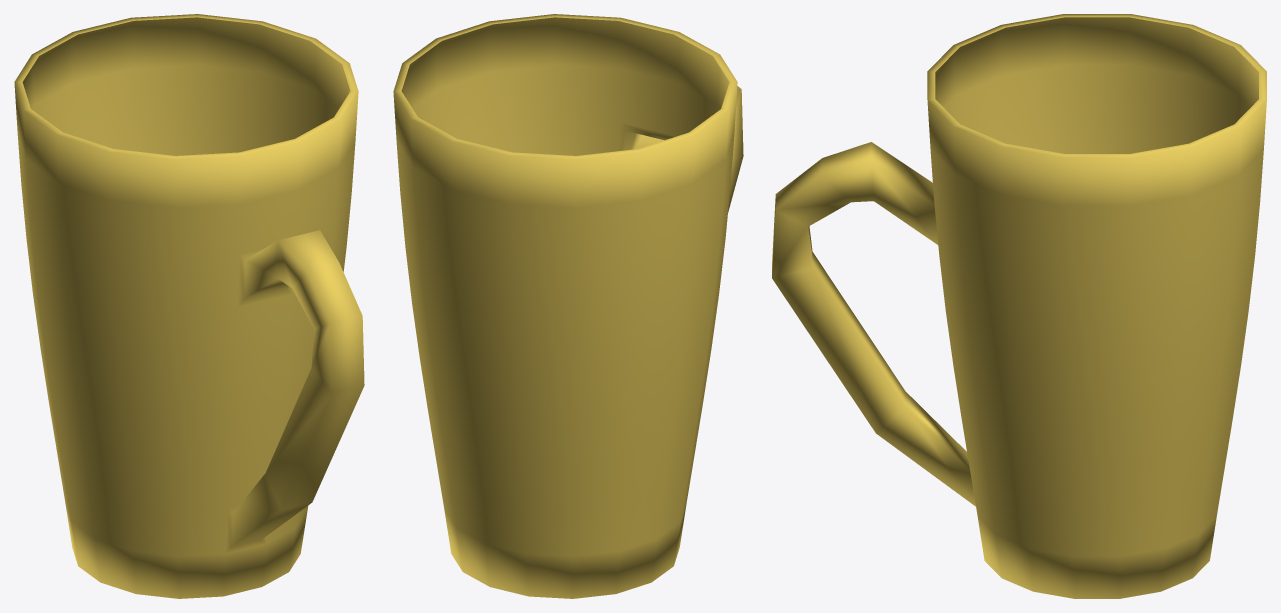
Rendered from goldeneTasse220.glb.
3 renders of one model, left to right at view 1: azimuth 30°, elevation 25°; view 2: azimuth 150°, elevation 25°; view 3: azimuth 270°, elevation 25°, orthographic.
Visible parts, largest first — view 1: goldenCup220; view 2: goldenCup220; view 3: goldenCup220.
Boxes of the visible parts, x1=… form: goldenCup220: x1=14, y1=14, x2=364, y2=598; goldenCup220: x1=393, y1=14, x2=743, y2=598; goldenCup220: x1=772, y1=14, x2=1266, y2=598.
Size of the model in its own units: 14.73 by 22.3 by 21.47.
